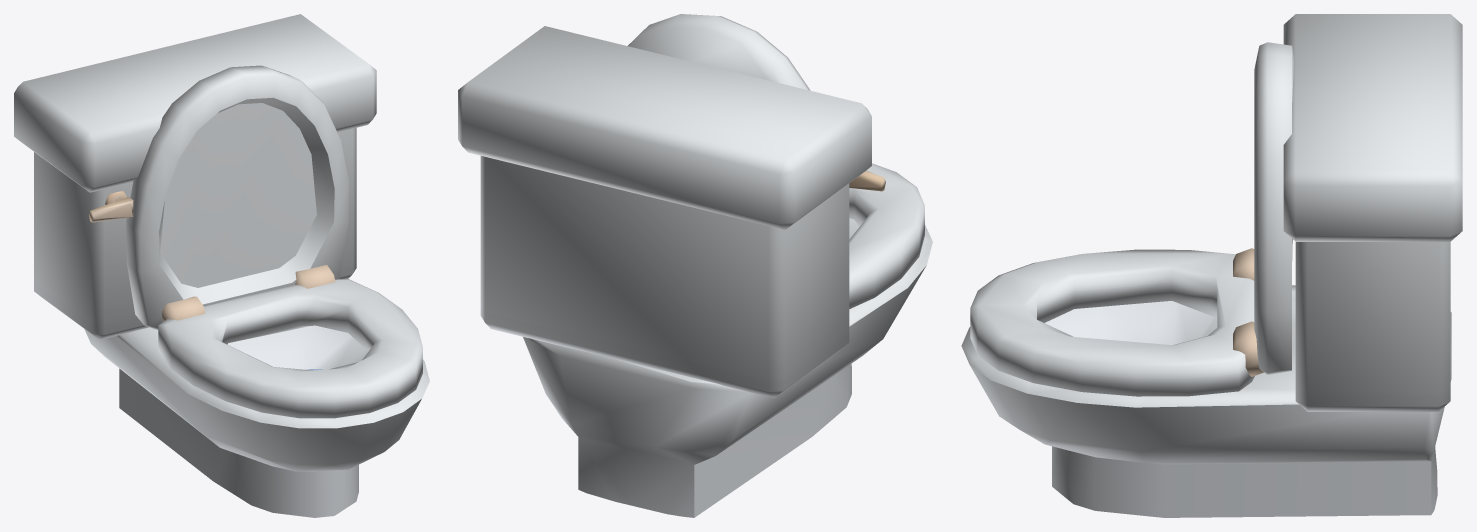
The model's file is bath-toilet.glb.
3 views of the same model, side by side, from view 1: azimuth 30°, elevation 25°; view 2: azimuth 150°, elevation 25°; view 3: azimuth 270°, elevation 25° (orthographic). The views are drawn at different scales.
Parts seen in each view (by area): view 1: toilet, toilet_lid; view 2: toilet, toilet_lid; view 3: toilet, toilet_lid.
Part boxes in pixels (box(x1,y1,x2,y2)): toilet: box(14, 14, 429, 517); toilet_lid: box(126, 65, 348, 329); toilet: box(458, 26, 932, 517); toilet_lid: box(628, 14, 810, 90); toilet: box(961, 14, 1462, 517); toilet_lid: box(1254, 42, 1293, 374).
Bounding box in the file's own units: 1 × 1.21 × 1.27.
1 material, 1 textured.
